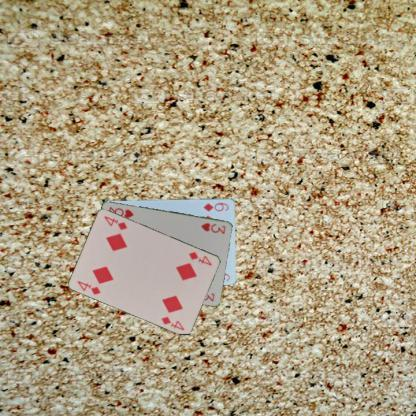3h: (198, 220, 227, 235)
4d: (186, 249, 213, 267), (75, 278, 102, 296)
6d: (201, 200, 230, 213)
